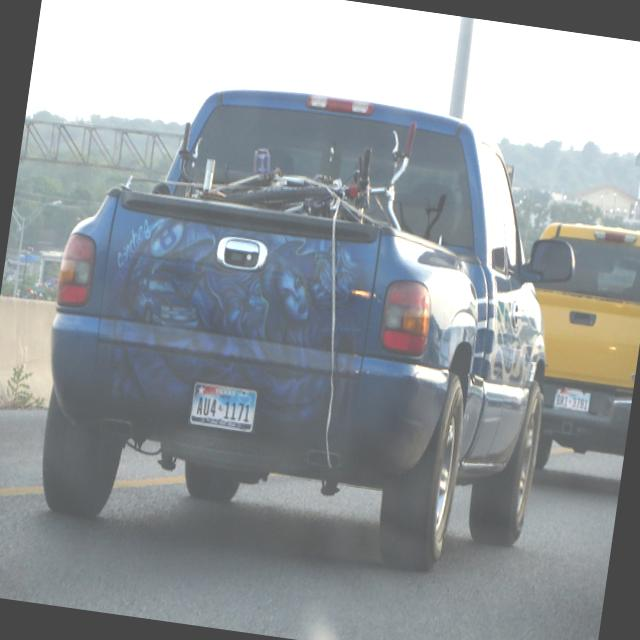Vehicle: (26, 63, 595, 588), (24, 62, 590, 584), (508, 212, 640, 481), (506, 216, 640, 477)
